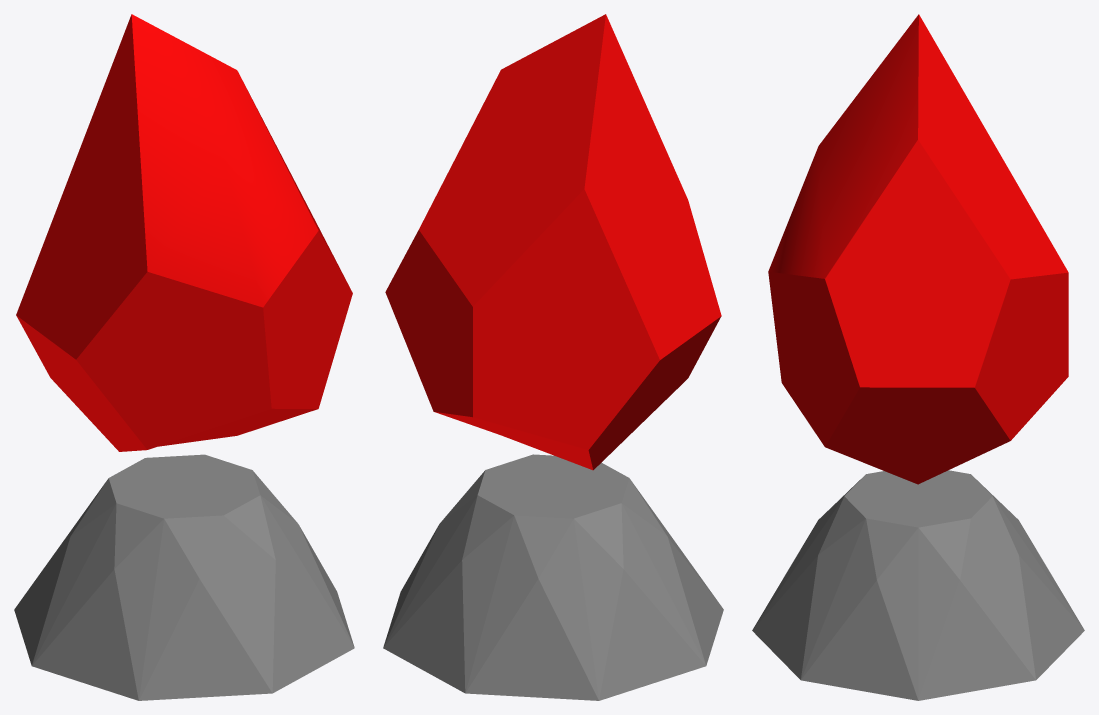
File: crystal real life size.fbx
3 renders of one model, left to right at view 1: azimuth 30°, elevation 25°; view 2: azimuth 150°, elevation 25°; view 3: azimuth 270°, elevation 25°, orthographic. The views are drawn at different scales.
Parts seen in each view (by area): view 1: pPlatonic1, pCylinder1; view 2: pPlatonic1, pCylinder1; view 3: pPlatonic1, pCylinder1.
Boxes of the visible parts, x1,y1,x2,y2 form: pPlatonic1: (16,14,352,451); pCylinder1: (14,454,354,700); pPlatonic1: (385,14,721,470); pCylinder1: (383,454,723,700); pPlatonic1: (768,14,1068,484); pCylinder1: (752,470,1084,700).
Size of the model in its own units: 1.49 by 2.92 by 1.49.
